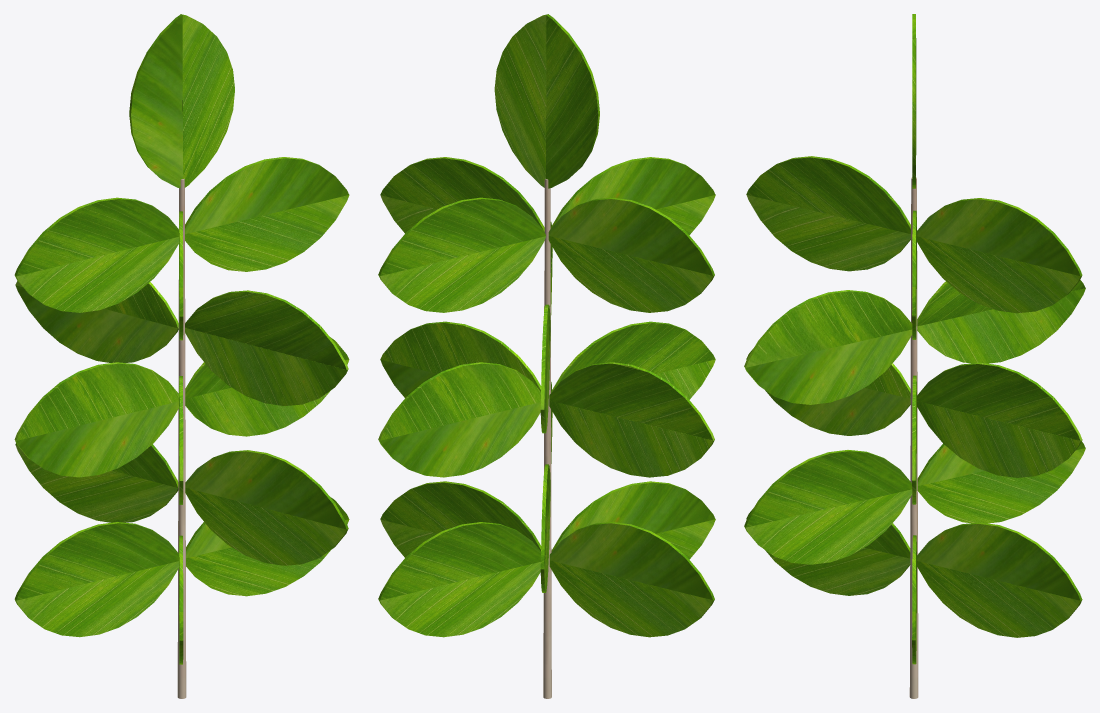
Rendered from arbusto03LT.obj.
The picture shows the model from 3 angles, left to right: view 1: azimuth 30°, elevation 25°; view 2: azimuth 150°, elevation 25°; view 3: azimuth 270°, elevation 25°; orthographic projection.
Visible parts, largest first — view 1: Cylinder013, Cylinder042, Cylinder008, Cylinder006, Cylinder009, Cylinder022, Cylinder021, Cylinder048, Cylinder049, Cylinder043, Cylinder044, Cone001 (+3 smaller); view 2: Cylinder045, Cylinder006, Cylinder009, Cylinder008, Cylinder046, Cylinder013, Cylinder047, Cylinder015, Cylinder014, Cylinder016, Cylinder042, Cylinder044 (+4 smaller); view 3: Cylinder021, Cylinder022, Cylinder014, Cylinder047, Cylinder046, Cylinder045, Cylinder048, Cylinder049, Cylinder016, Cylinder015, Cone001, Cylinder013 (+3 smaller).
Part boxes in pixels (x1,y1,x2,y2): Cylinder013: [129, 14, 234, 188]; Cylinder042: [185, 157, 349, 271]; Cylinder008: [14, 362, 178, 477]; Cylinder006: [14, 197, 178, 312]; Cylinder009: [14, 522, 178, 637]; Cylinder022: [185, 450, 348, 565]; Cylinder021: [185, 290, 348, 405]; Cylinder048: [15, 281, 178, 362]; Cylinder049: [15, 443, 178, 522]; Cylinder043: [185, 337, 349, 436]; Cylinder044: [186, 497, 349, 596]; Cone001: [177, 178, 186, 698]; Cylinder045: [378, 197, 545, 312]; Cylinder006: [548, 197, 714, 312]; Cylinder009: [549, 522, 714, 637]; Cylinder008: [549, 362, 714, 477]; Cylinder046: [378, 362, 540, 477]; Cylinder013: [494, 14, 599, 188]; Cylinder047: [378, 522, 540, 637]; Cylinder015: [551, 321, 715, 399]; Cylinder014: [550, 157, 715, 234]; Cylinder016: [551, 481, 715, 559]; Cylinder042: [380, 157, 544, 233]; Cylinder044: [380, 481, 540, 557]; Cylinder021: [744, 290, 912, 404]; Cylinder022: [744, 450, 912, 564]; Cylinder014: [746, 156, 910, 271]; Cylinder047: [917, 522, 1082, 637]; Cylinder046: [917, 362, 1082, 477]; Cylinder045: [917, 198, 1082, 313]; Cylinder048: [917, 280, 1085, 363]; Cylinder049: [917, 441, 1085, 523]; Cylinder016: [746, 508, 910, 595]; Cylinder015: [746, 348, 910, 435]; Cone001: [909, 177, 918, 698]; Cylinder013: [912, 14, 916, 188].
Bounding box in the file's own units: 26.89 × 52.63 × 23.88.
